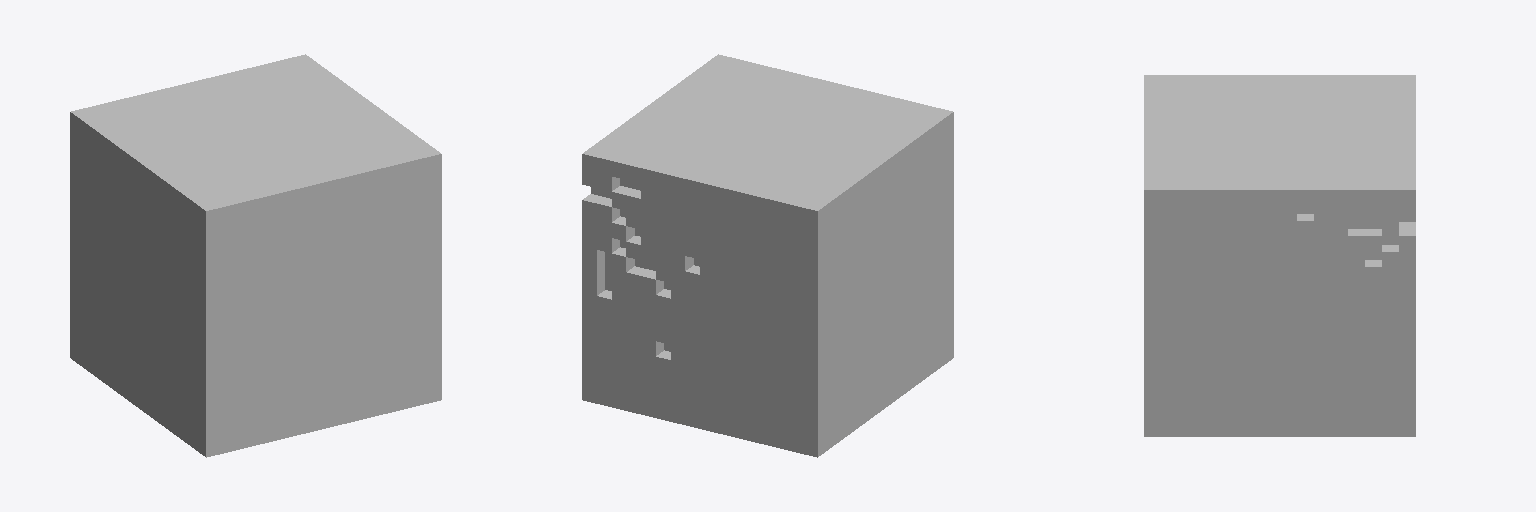
File: wall4.obj
3 views of the same model, side by side, from view 1: azimuth 30°, elevation 25°; view 2: azimuth 150°, elevation 25°; view 3: azimuth 270°, elevation 25° (orthographic).
Bounding box in the file's own units: 16 × 16 × 16.